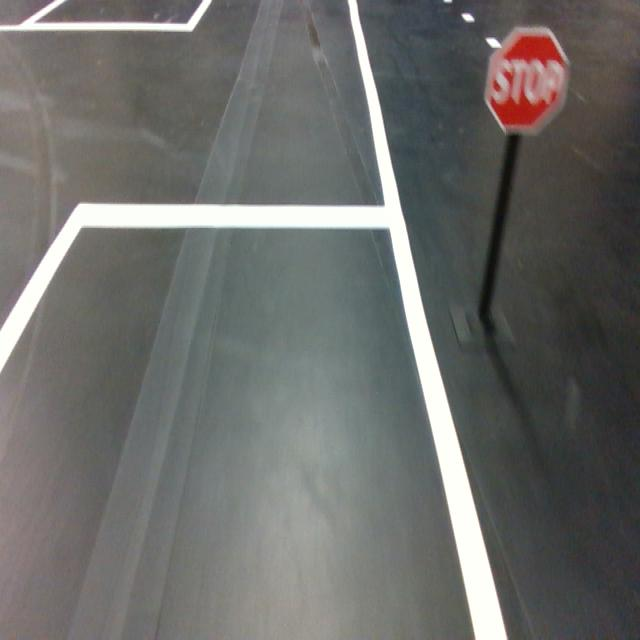stop-sign: (484, 26, 571, 138)
